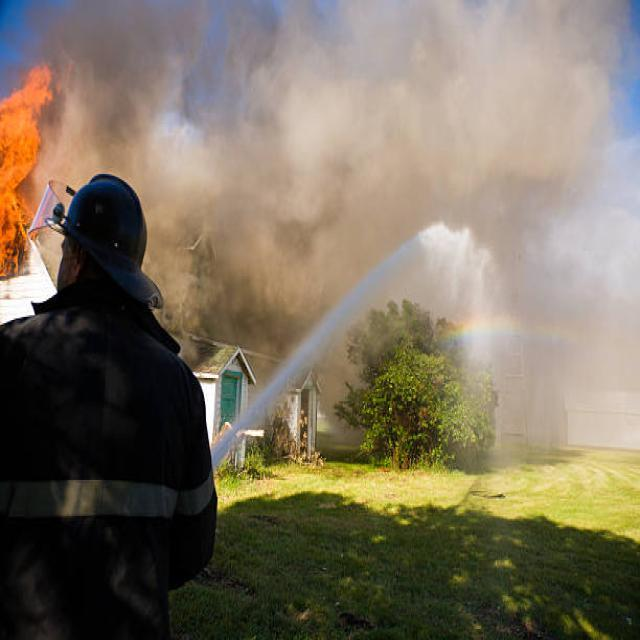Fire: (0, 62, 64, 280)
Smoke: (17, 0, 592, 358)
